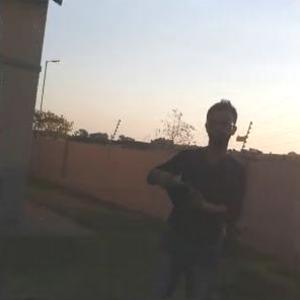follow: (135, 91, 248, 299)
